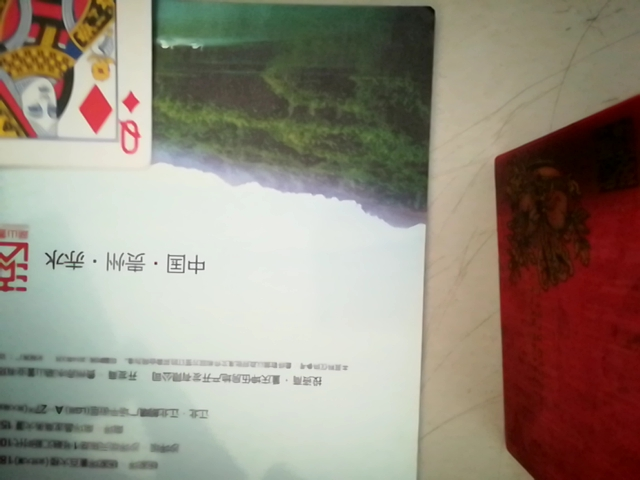fk q: (2, 0, 162, 159)
